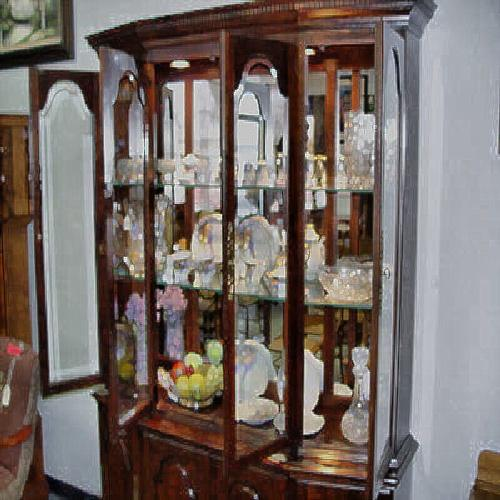cabinet: (90, 24, 414, 482)
